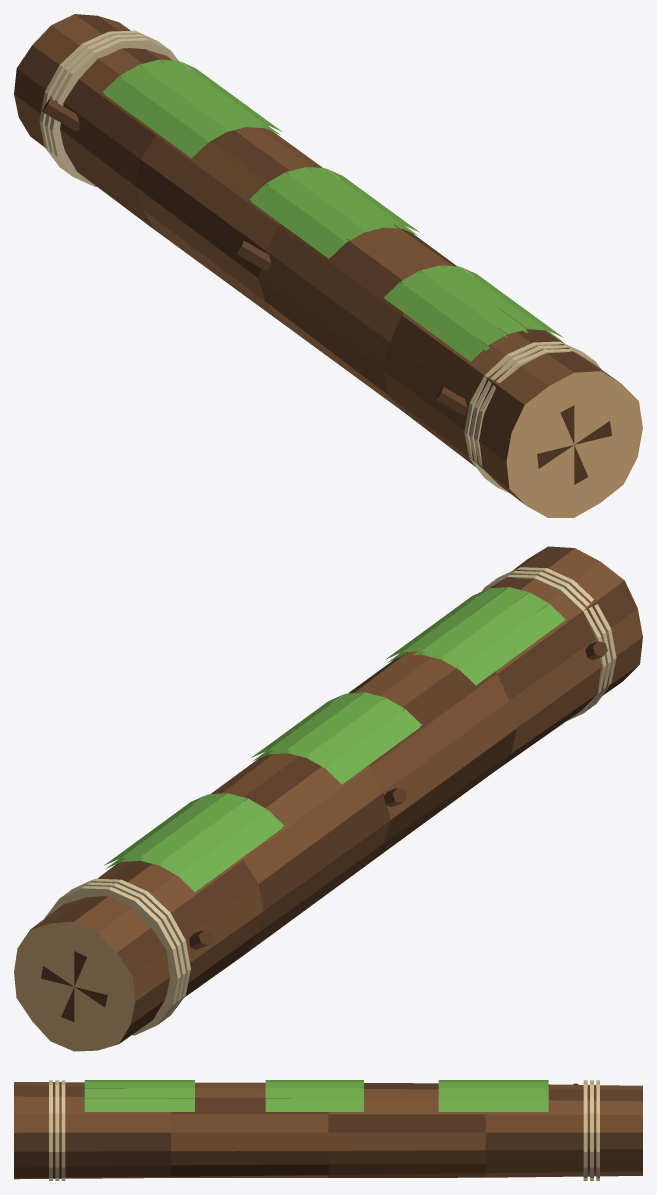
Rendered from log-bridge.glb.
The picture shows the model from 3 angles, top to bottom: view 1: azimuth 30°, elevation 25°; view 2: azimuth 150°, elevation 25°; view 3: azimuth 270°, elevation 25°; orthographic projection. The views are drawn at different scales.
Visible parts, largest first — view 1: log-bridge; view 2: log-bridge; view 3: log-bridge.
Boxes of the visible parts, bbox=[...] form: log-bridge: bbox=[14, 14, 642, 517]; log-bridge: bbox=[14, 546, 642, 1051]; log-bridge: bbox=[14, 1080, 642, 1180].
Size of the model in its own units: 2.85 by 2.57 by 16.
